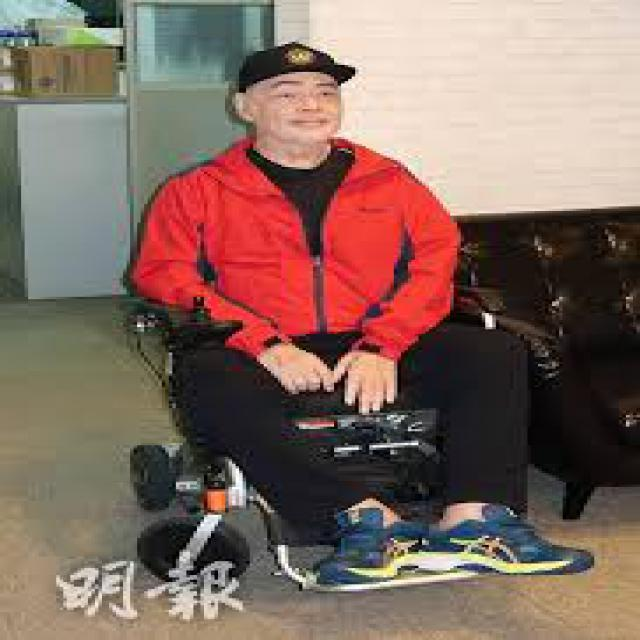wheelchairs: (106, 232, 574, 596)
